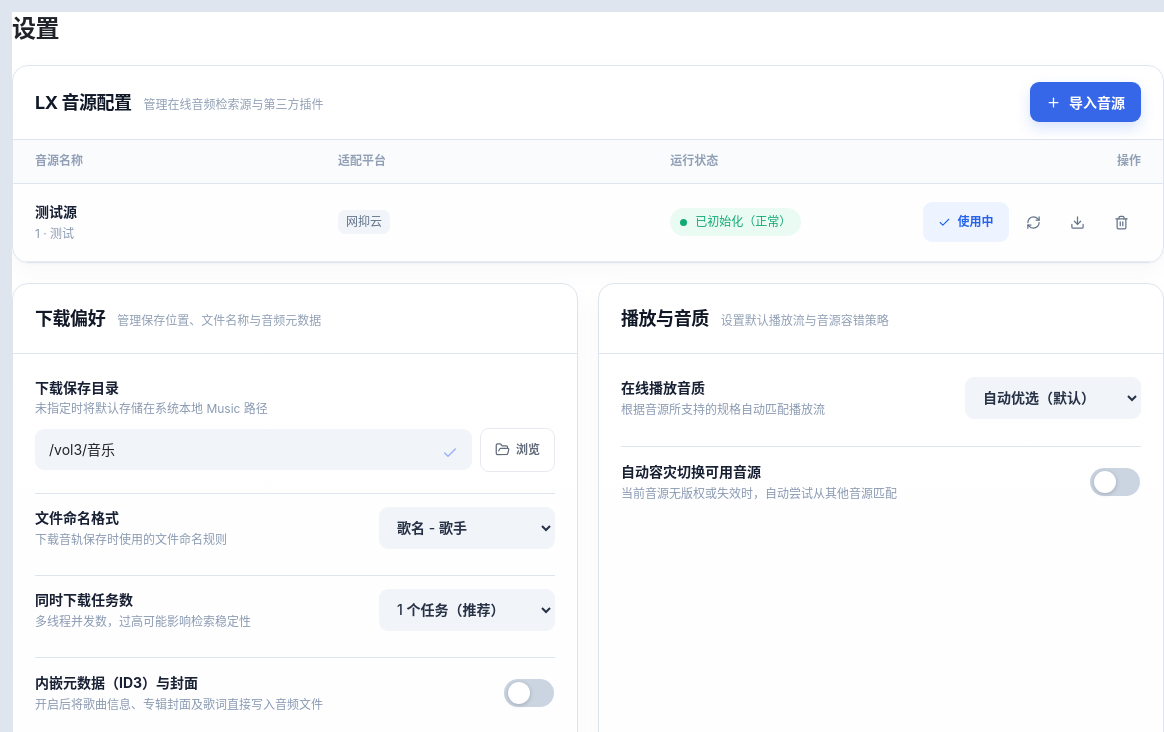
v5 LX 紧凑行与失败反馈 › 检查返回error不能冒充成功，保留可重试状态
Check: the dropdown labelled "文件命名格式" is shown, box x1=379 y1=507 x2=555 y2=549
Click the button named "检查音源 测试源" at (1033, 222), box x1=1013 y1=202 x2=1053 y2=242
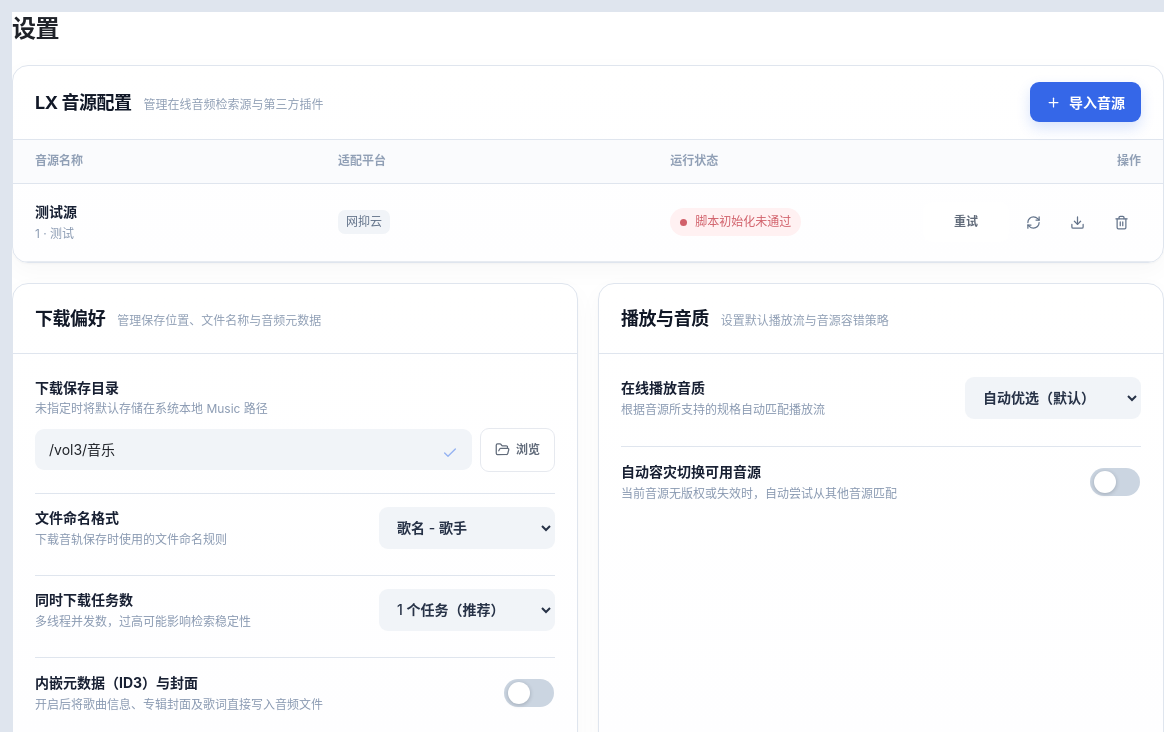
Check: the text "脚本初始化未通过" is shown, box x1=670 y1=208 x2=801 y2=236
Check: the button with aria-label "重试音源 测试源" is enabled, box x1=923 y1=202 x2=1009 y2=242
